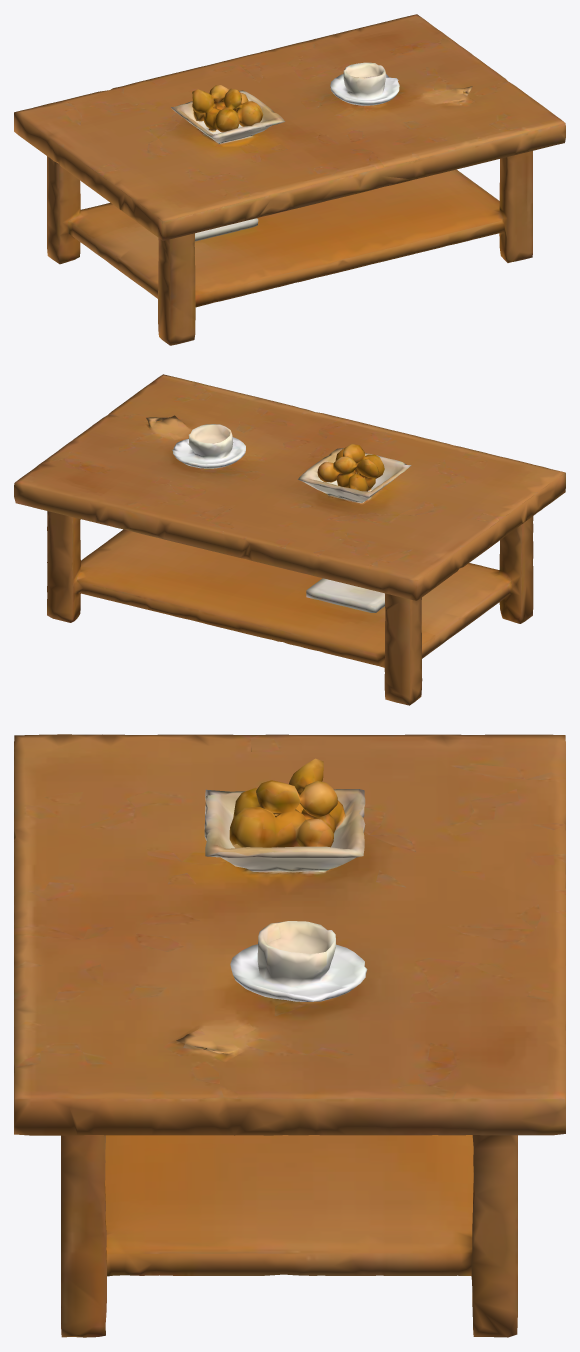
The model's file is 02_coffee_table.glb.
3 renders of one model, top to bottom at view 1: azimuth 30°, elevation 25°; view 2: azimuth 150°, elevation 25°; view 3: azimuth 270°, elevation 25°, orthographic. The views are drawn at different scales.
Parts seen in each view (by area): view 1: geometry_0; view 2: geometry_0; view 3: geometry_0.
Part boxes in pixels (bbox=[...]): geometry_0: bbox=[14, 14, 565, 345]; geometry_0: bbox=[14, 374, 565, 705]; geometry_0: bbox=[14, 734, 565, 1337].
Size of the model in its own units: 1.9 by 0.8243 by 1.21.
1 material, 1 textured.
